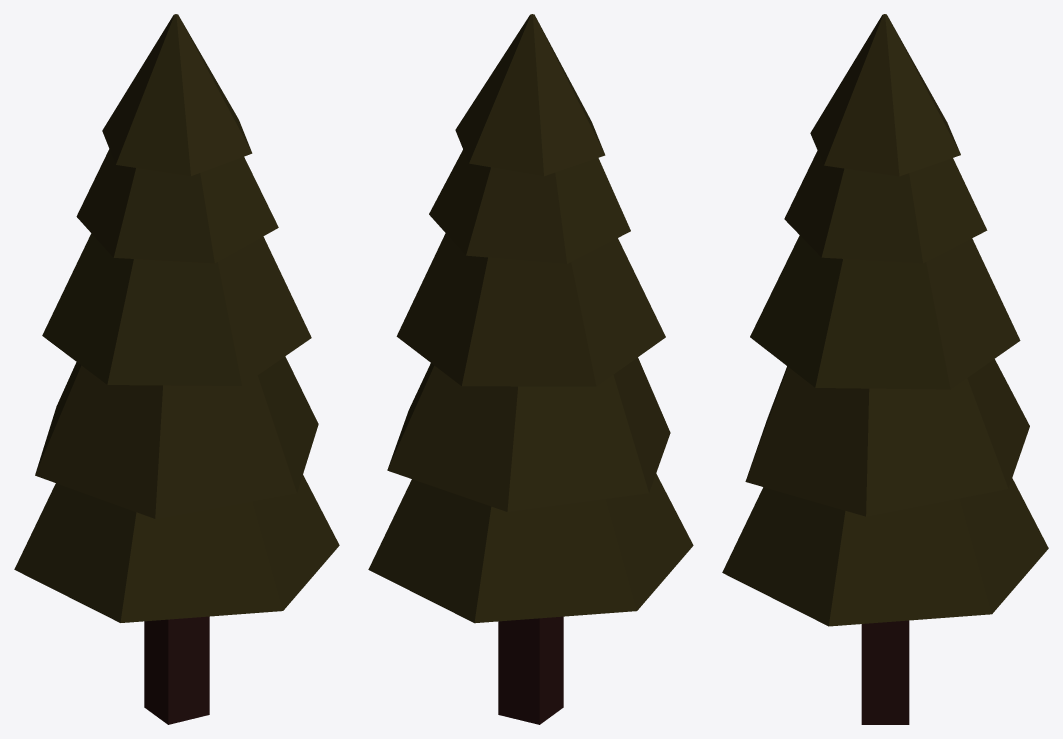
The model's file is tree.glb.
3 views of the same model, side by side, from view 1: azimuth 30°, elevation 25°; view 2: azimuth 150°, elevation 25°; view 3: azimuth 270°, elevation 25° (orthographic).
Parts seen in each view (by area): view 1: Tree; view 2: Tree; view 3: Tree.
Part boxes in pixels (box(x1,y1,x2,y2)): Tree: box(14, 14, 339, 724); Tree: box(368, 14, 693, 724); Tree: box(722, 14, 1048, 724).
Size of the model in its own units: 1.88 by 4.65 by 1.97.
